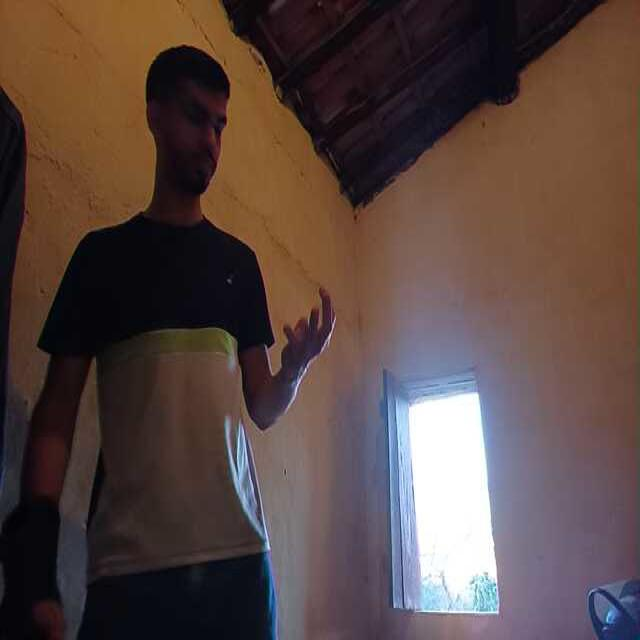capacete: (584, 572, 640, 640)
pessoa: (31, 33, 342, 640)
